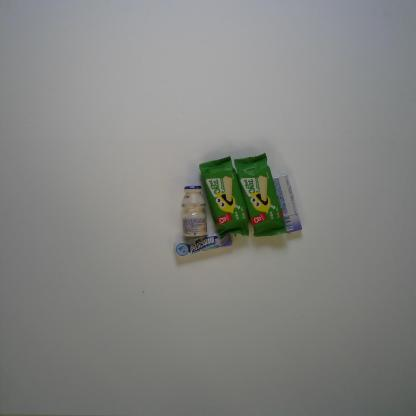Candy: (272, 174, 302, 234), (173, 232, 234, 259)
Dessert: (234, 152, 288, 238), (198, 155, 249, 238)
Milk: (181, 184, 208, 237)
